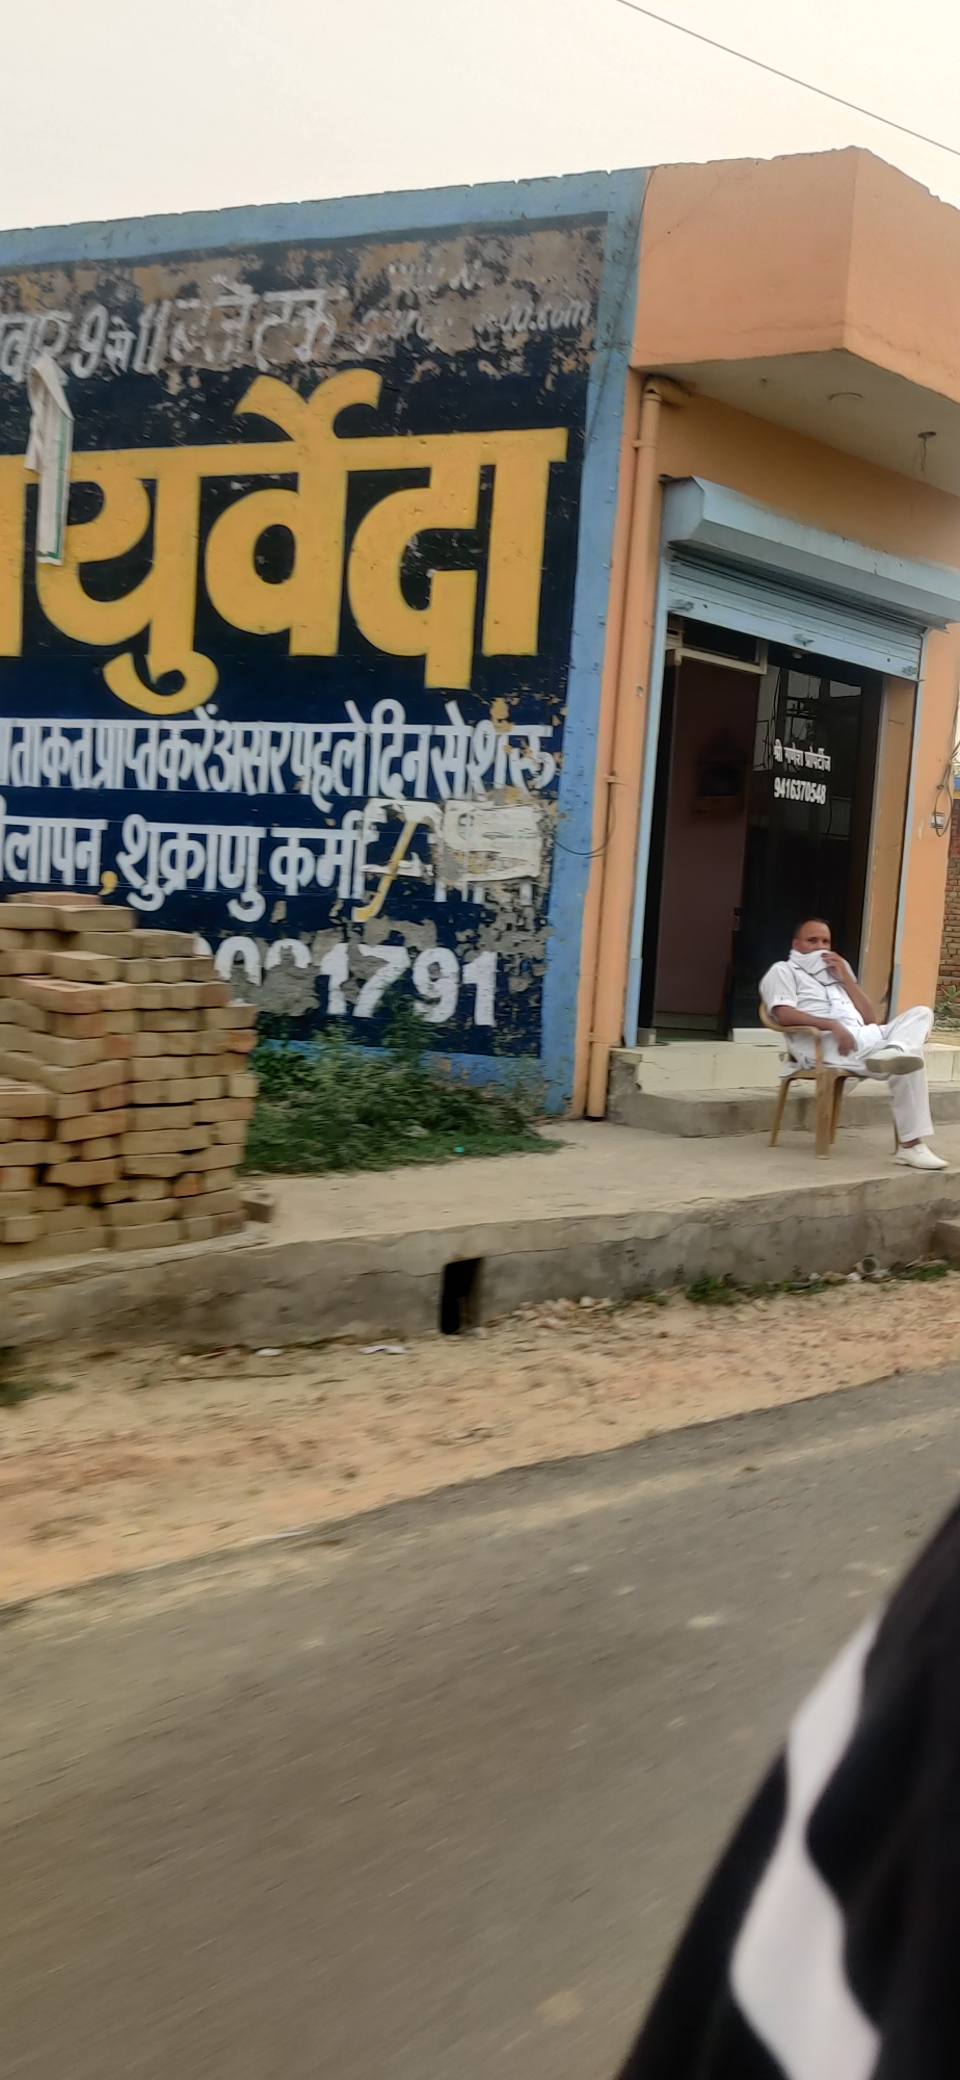text: (4, 210, 599, 1063), (769, 726, 837, 811)
